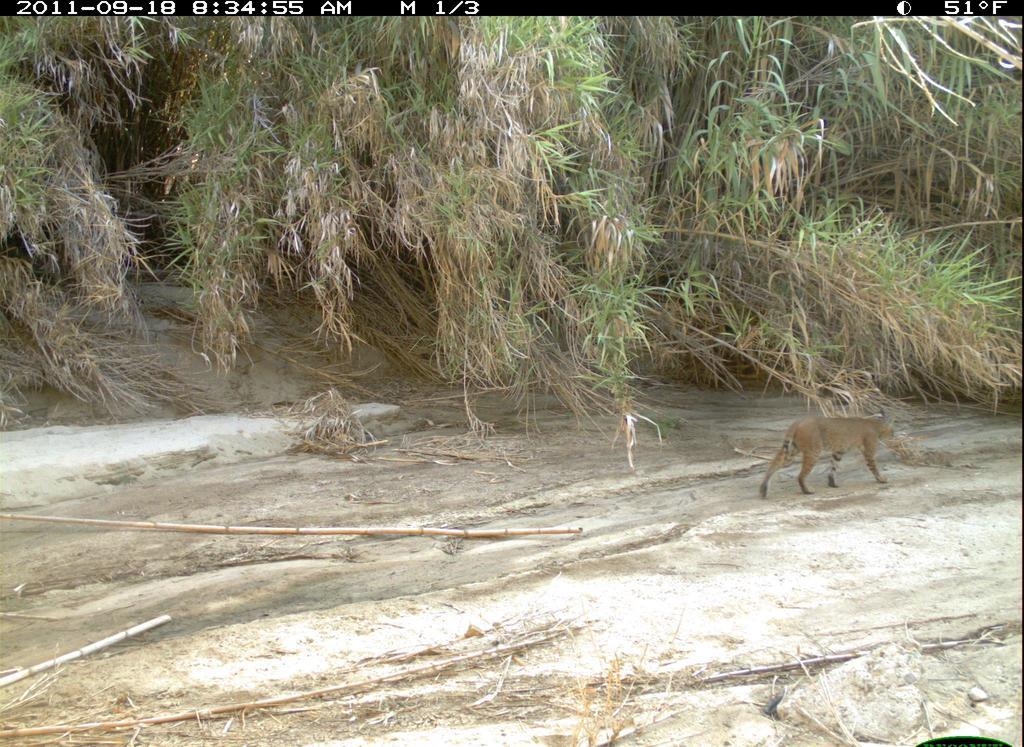bobcat: (748, 396, 918, 518)
